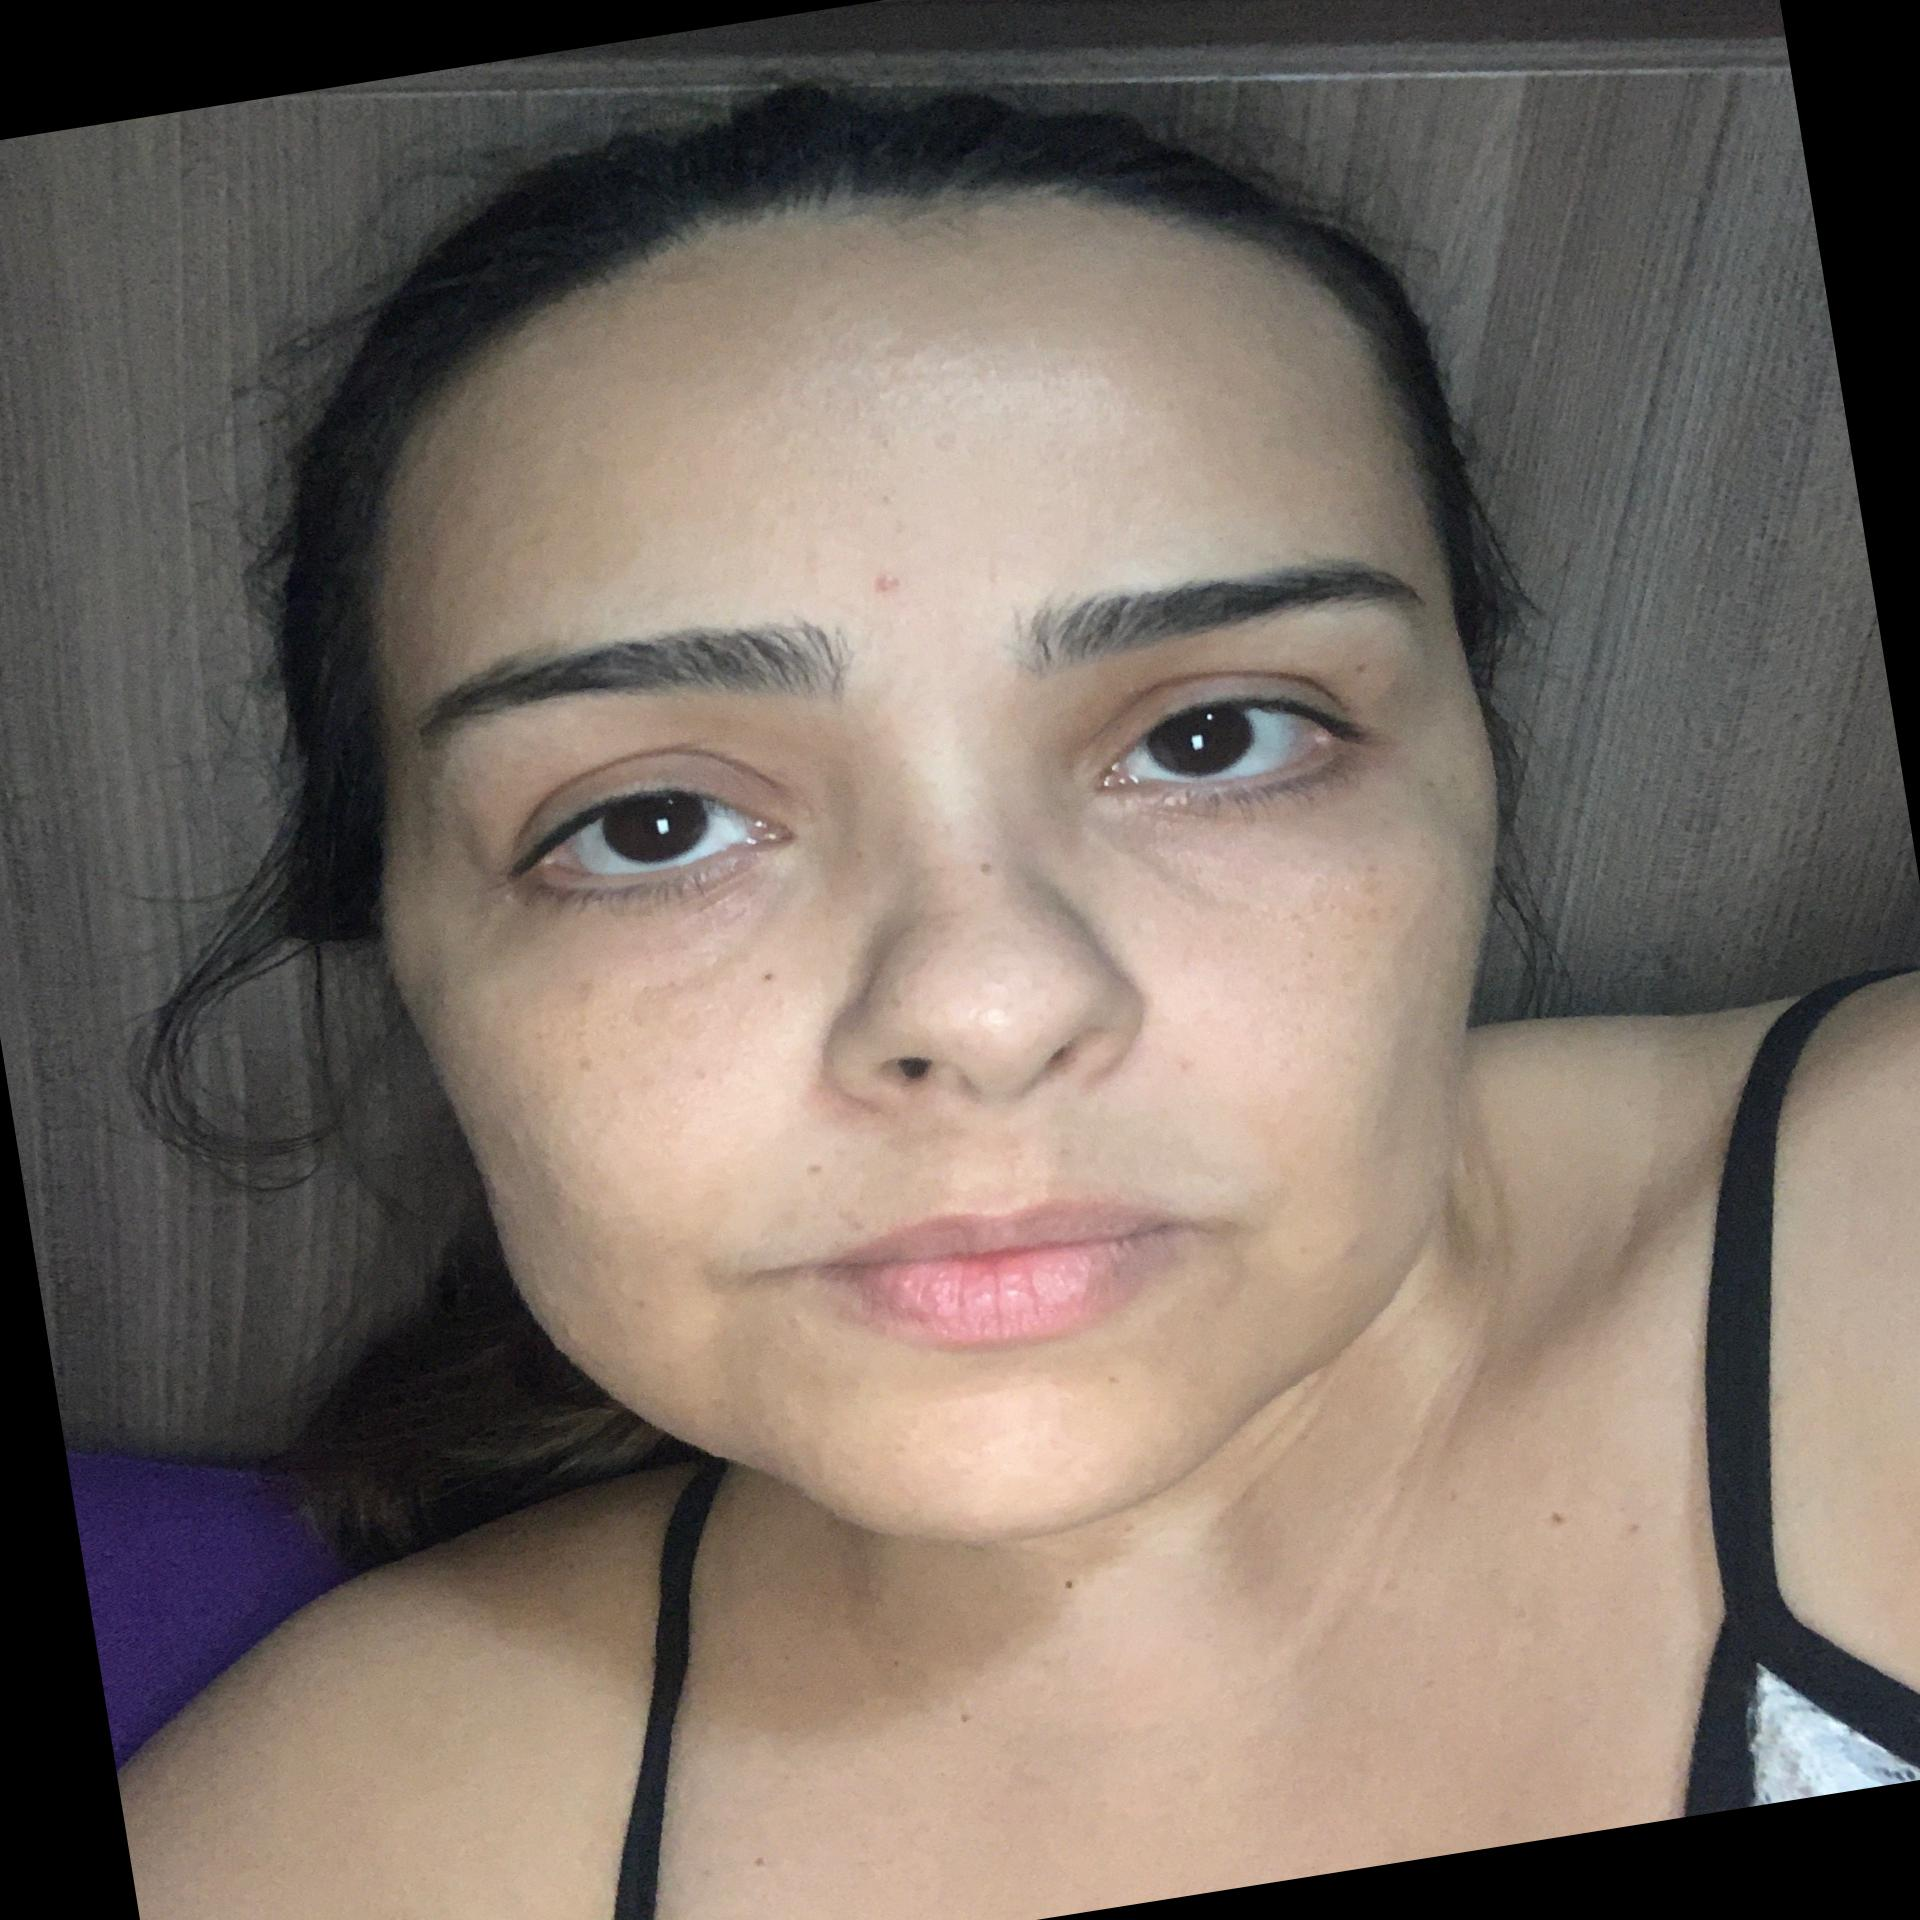Acne: (855, 549, 902, 601)
Blackhead: (856, 427, 902, 462), (863, 482, 902, 520)
